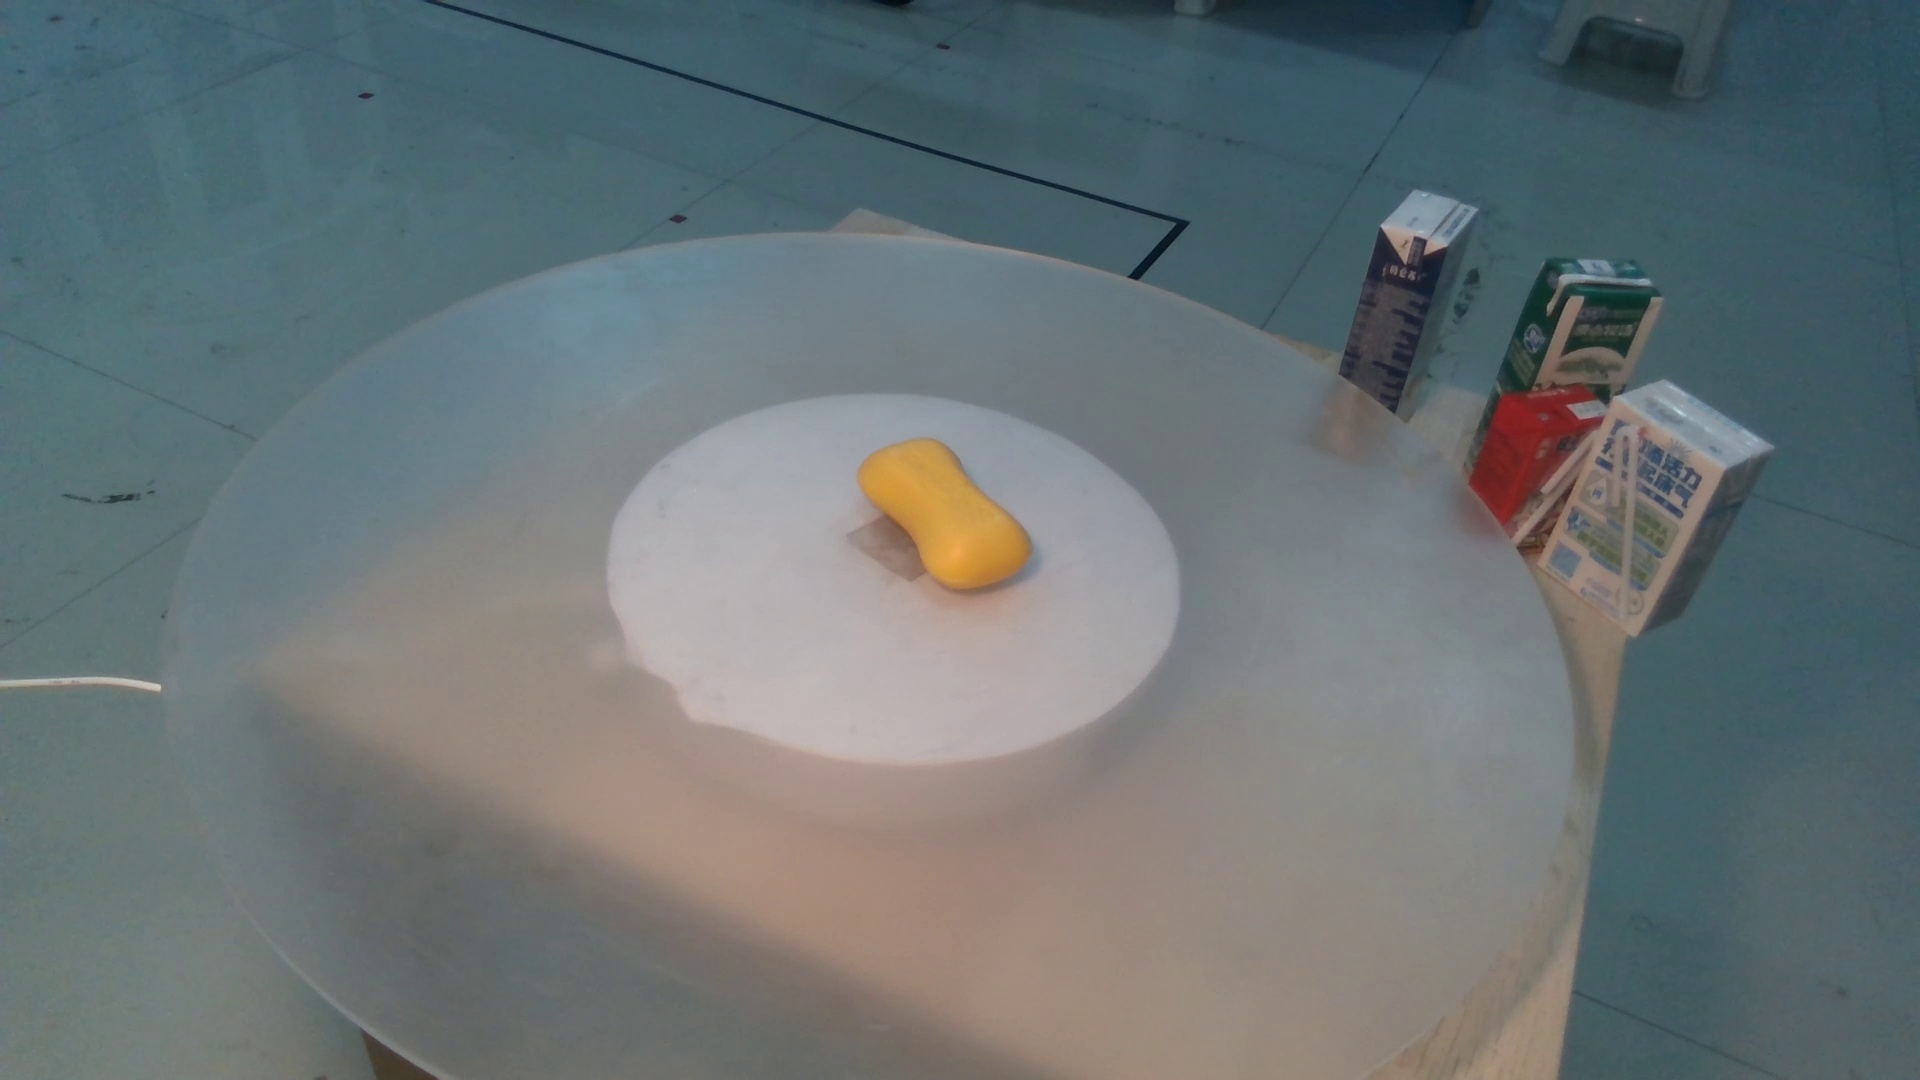CA003_1: (847, 426, 1052, 593)
